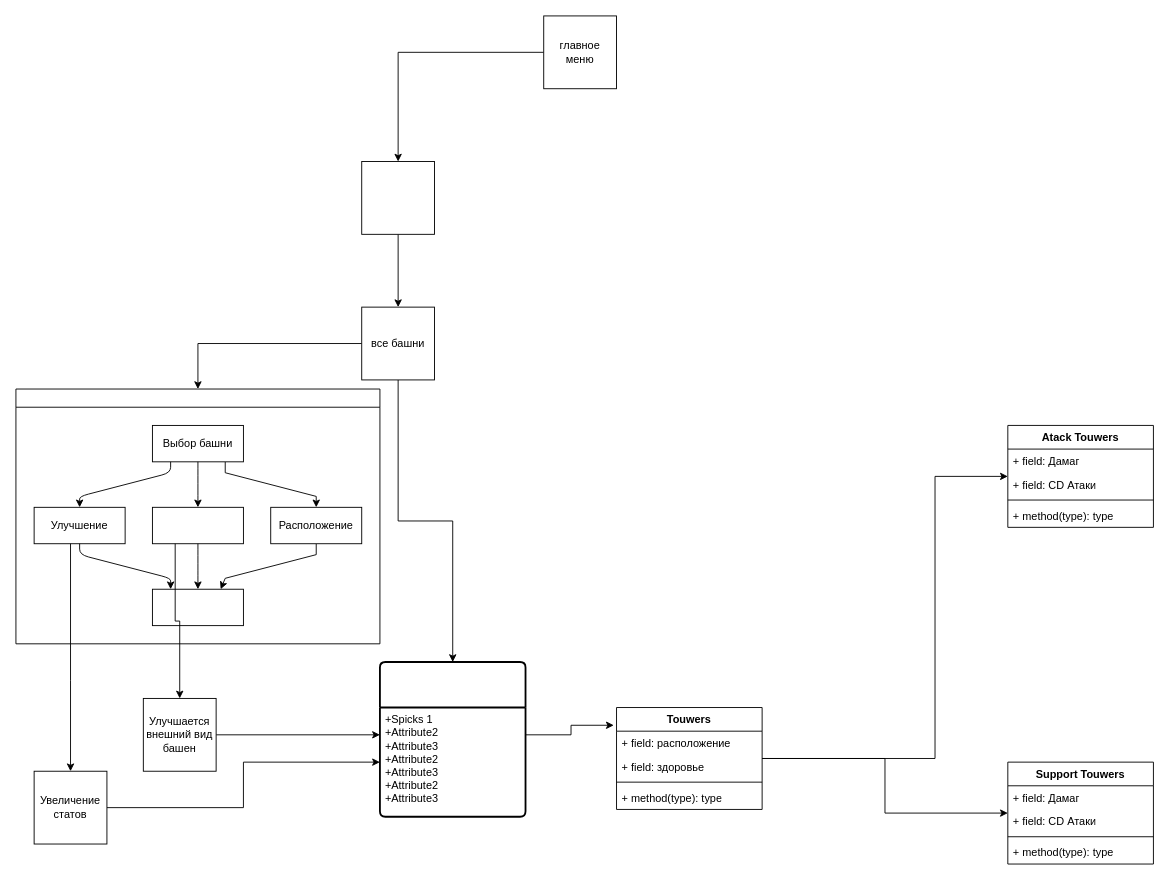
The diagram is 1169 pixels wide and 883 high, and some of its shapes have lost their labels. The box of each missing label's shape, as (x1, y1, x2, y2) in pixels:
End: (152, 588, 243, 626)
Entity: (379, 661, 526, 817)
Vertical Flow Layout: (15, 388, 380, 644)
Внешний вид: (152, 506, 243, 544)
магазин: (361, 161, 435, 234)
